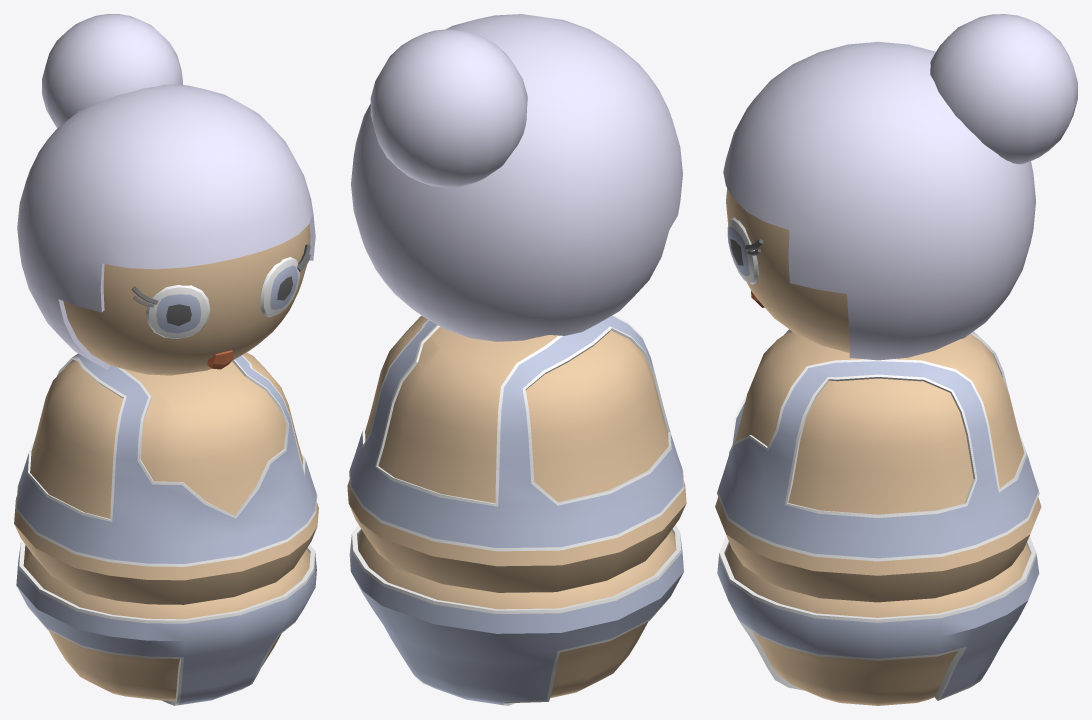
The model's file is mor.fbx.
The picture shows the model from 3 angles, left to right: view 1: azimuth 30°, elevation 25°; view 2: azimuth 150°, elevation 25°; view 3: azimuth 270°, elevation 25°; orthographic projection. The views are drawn at different scales.
Parts seen in each view (by area): view 1: Cube.001; view 2: Cube.001; view 3: Cube.001.
Part boxes in pixels (x1,y1,x2,y2): Cube.001: (14,14,318,705); Cube.001: (347,14,686,705); Cube.001: (715,14,1077,705).
Bounding box in the file's own units: 171 × 382 × 190.
